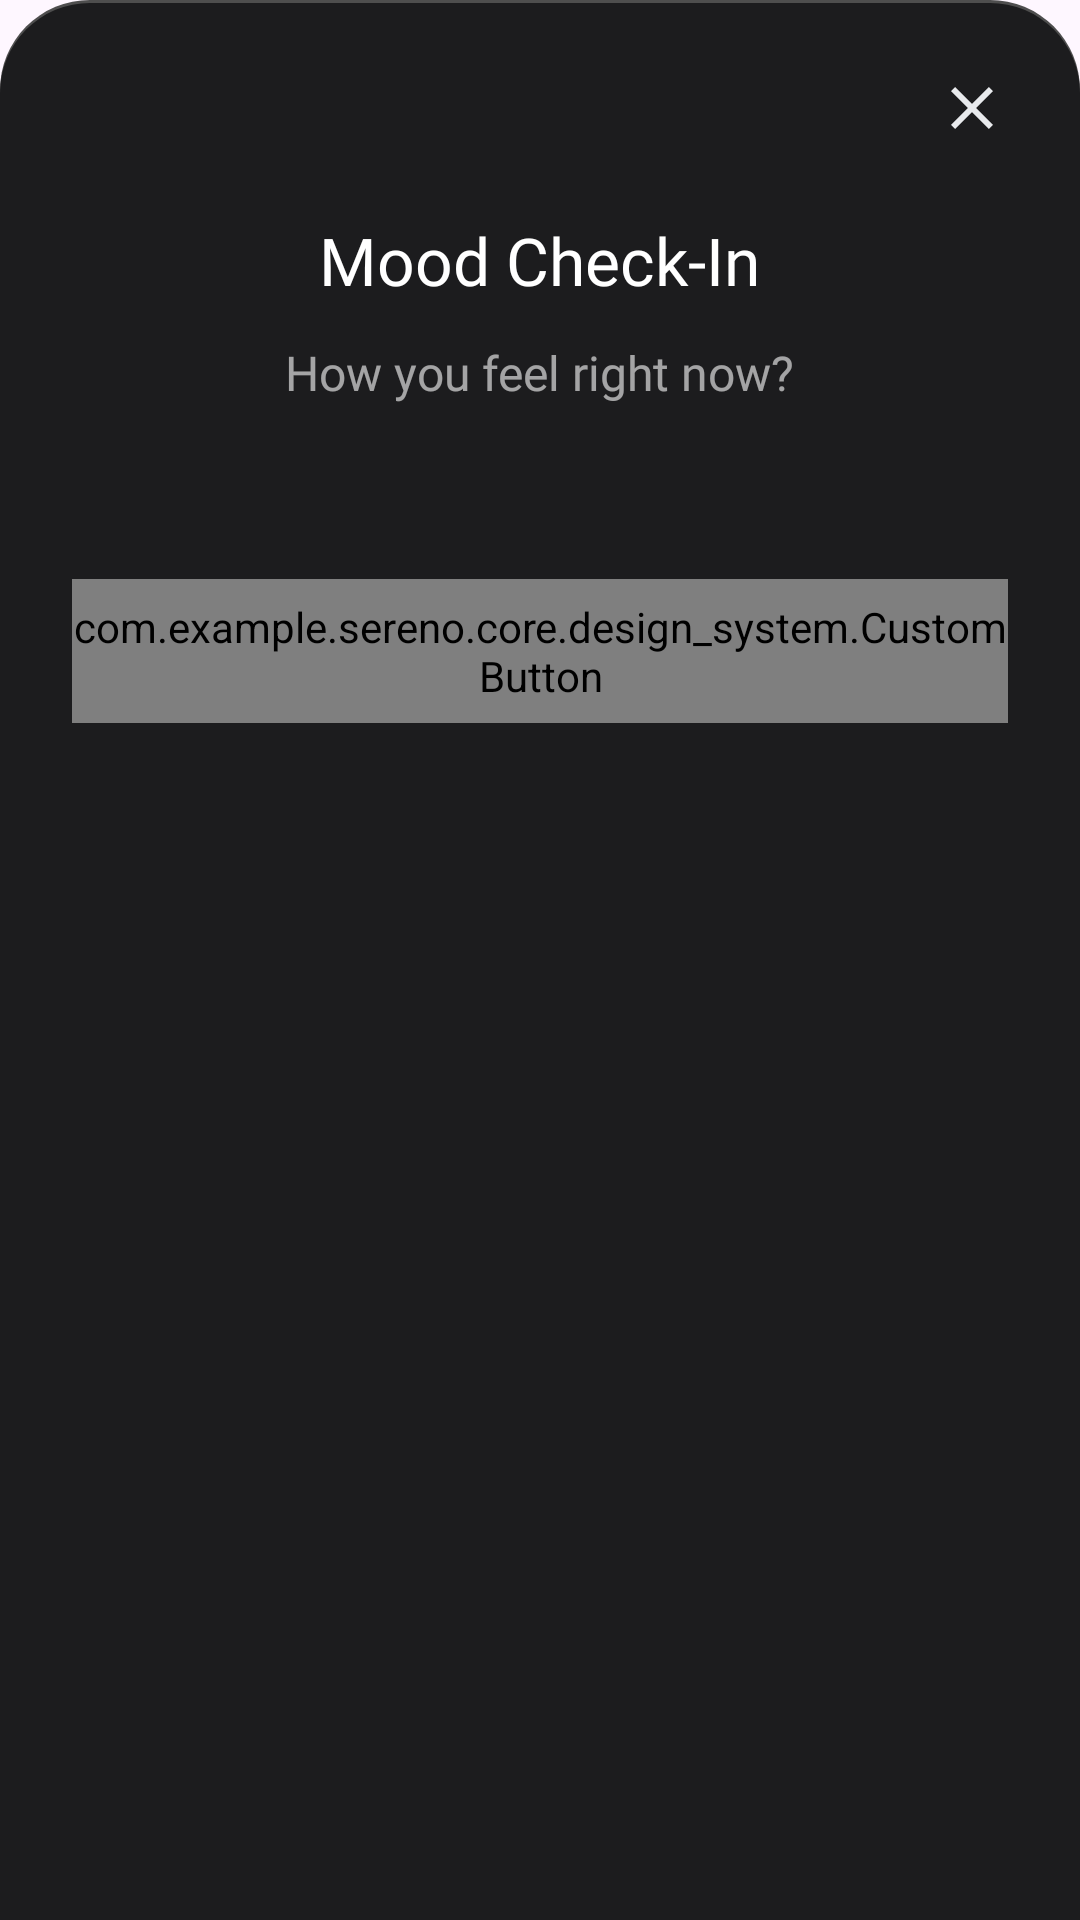

Icons on this 1080×1920 Android screen, each with the point to tap as (x=x, y=y):
close: (x=972, y=108)
